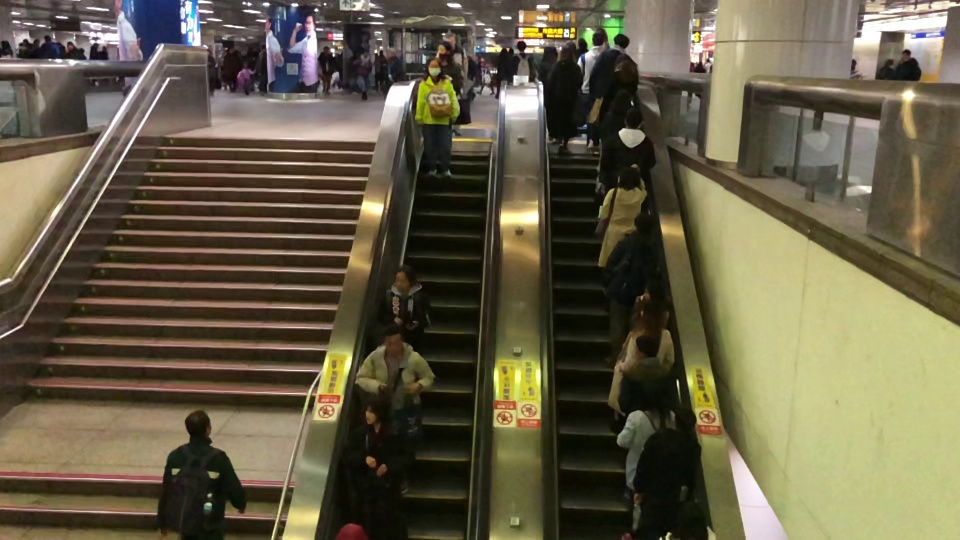person_head: (669, 489, 708, 527), (182, 409, 214, 444), (641, 380, 670, 413), (375, 328, 404, 355), (632, 213, 658, 241), (359, 405, 387, 430), (612, 169, 641, 192), (637, 332, 661, 359), (672, 411, 696, 435), (613, 59, 636, 82), (392, 267, 414, 291), (622, 108, 642, 131), (422, 58, 441, 80), (561, 41, 578, 63), (540, 45, 560, 63), (644, 282, 664, 300), (614, 32, 631, 53), (590, 33, 607, 49), (436, 45, 451, 61), (442, 31, 456, 46), (845, 56, 857, 72), (899, 49, 912, 62), (385, 47, 397, 60), (882, 55, 894, 66), (497, 46, 507, 58), (517, 42, 527, 54), (101, 43, 111, 54), (360, 47, 370, 58), (321, 46, 331, 56), (91, 41, 100, 52), (246, 46, 254, 56), (44, 36, 52, 45), (67, 40, 75, 49), (509, 46, 515, 58), (3, 40, 10, 48), (21, 40, 29, 47), (242, 61, 249, 69), (259, 43, 266, 51), (227, 46, 234, 53), (697, 60, 703, 67), (705, 58, 712, 64), (689, 60, 694, 68), (206, 48, 211, 56), (378, 49, 383, 55), (480, 56, 485, 62)
person_vbox: (355, 327, 437, 491), (615, 380, 694, 540), (154, 409, 249, 540), (608, 282, 679, 423), (636, 411, 712, 539), (602, 213, 664, 365), (613, 332, 689, 421), (591, 59, 642, 177), (594, 168, 649, 270), (412, 59, 459, 177), (590, 31, 633, 152), (346, 405, 397, 506), (600, 108, 658, 195), (378, 267, 433, 344), (658, 487, 721, 540), (440, 31, 470, 134), (560, 41, 585, 155), (574, 33, 609, 106), (537, 46, 563, 143), (435, 45, 463, 111), (349, 46, 371, 101), (383, 48, 405, 97), (894, 48, 923, 84), (513, 41, 534, 82), (221, 45, 239, 92), (475, 55, 495, 95), (317, 47, 333, 95), (494, 45, 508, 94), (255, 42, 267, 96), (872, 55, 895, 83), (242, 46, 256, 92), (682, 58, 696, 103), (37, 35, 62, 60), (241, 60, 256, 96), (844, 55, 863, 83), (374, 49, 386, 93), (505, 44, 518, 82), (207, 48, 217, 96), (64, 39, 81, 59), (18, 40, 34, 58), (88, 43, 103, 61), (101, 41, 113, 63), (0, 40, 13, 58), (695, 59, 706, 77), (705, 56, 714, 77)
